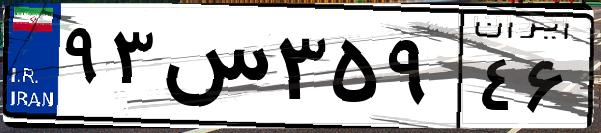3: (270, 28, 330, 110), (110, 28, 158, 98)
4: (475, 38, 525, 113)
5: (330, 28, 385, 110)
6: (525, 38, 570, 115)
9: (385, 28, 445, 110), (57, 26, 110, 100)
س: (158, 20, 270, 120)
